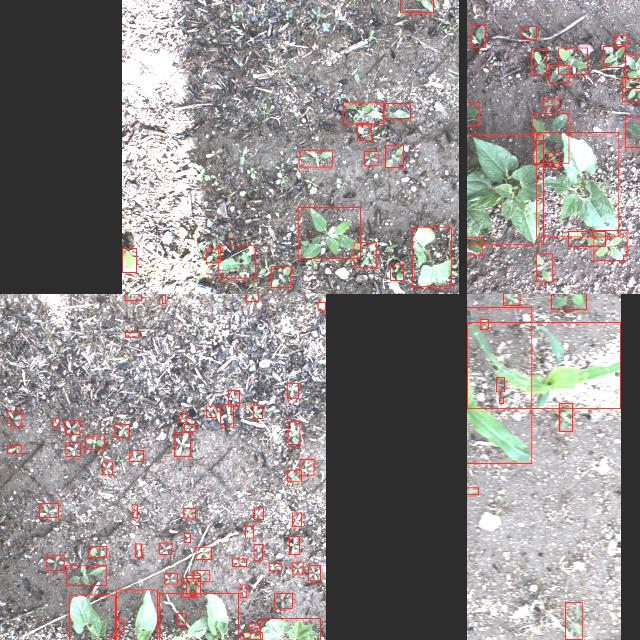crop: (468, 323, 620, 409), (467, 307, 532, 463), (537, 132, 619, 238), (467, 134, 543, 243), (159, 593, 238, 640), (412, 227, 452, 287), (69, 595, 115, 640), (116, 590, 157, 640), (261, 618, 321, 640), (122, 248, 136, 272)
weed: (298, 208, 360, 258), (532, 113, 568, 163), (218, 246, 256, 278), (594, 230, 626, 260), (343, 102, 383, 124), (66, 566, 106, 586), (558, 48, 588, 74), (566, 602, 582, 640), (354, 242, 376, 268), (298, 151, 332, 167), (568, 232, 606, 246), (551, 294, 586, 309), (603, 46, 625, 68), (626, 55, 640, 89), (625, 116, 640, 147), (536, 254, 552, 282), (271, 266, 291, 288), (400, 0, 433, 13), (622, 78, 640, 101), (386, 146, 404, 168), (470, 24, 486, 48), (174, 433, 190, 457), (384, 104, 411, 118), (532, 49, 546, 75), (560, 402, 572, 432), (548, 66, 570, 82), (220, 404, 233, 428), (288, 421, 300, 445), (39, 504, 59, 518), (182, 578, 196, 598), (186, 575, 200, 595), (467, 237, 482, 255), (467, 102, 478, 125), (46, 556, 64, 570), (86, 436, 104, 450), (275, 594, 293, 608), (357, 124, 371, 140), (364, 150, 378, 166), (390, 264, 404, 280), (520, 26, 536, 40), (64, 420, 80, 434), (114, 424, 130, 438), (300, 459, 314, 475), (7, 410, 21, 426), (88, 546, 106, 558), (206, 249, 220, 263), (66, 442, 80, 456), (548, 152, 560, 168), (196, 547, 212, 559), (228, 390, 240, 406), (503, 294, 520, 305), (290, 536, 300, 554), (158, 543, 172, 555), (194, 570, 208, 582), (309, 566, 321, 580), (129, 451, 143, 462), (542, 99, 560, 107), (292, 562, 304, 574), (244, 632, 262, 640), (253, 405, 263, 419), (288, 384, 298, 398), (288, 470, 302, 480), (164, 574, 178, 584), (292, 513, 302, 527), (6, 445, 22, 453), (254, 544, 262, 560), (496, 376, 504, 392), (615, 35, 627, 45), (102, 462, 112, 474), (206, 406, 216, 418), (254, 508, 264, 520), (183, 508, 195, 518), (233, 559, 247, 567), (124, 294, 141, 300), (240, 584, 247, 598), (177, 613, 185, 625), (246, 526, 254, 538), (116, 620, 124, 632), (245, 294, 258, 301), (183, 424, 194, 432), (125, 332, 139, 338), (135, 544, 141, 558), (268, 564, 282, 570), (480, 319, 488, 329), (467, 487, 478, 494), (179, 413, 187, 422), (248, 623, 260, 629), (318, 302, 326, 310), (132, 504, 136, 518), (52, 418, 58, 427), (184, 534, 190, 542), (110, 635, 119, 640), (162, 296, 166, 304), (500, 397, 504, 403)
